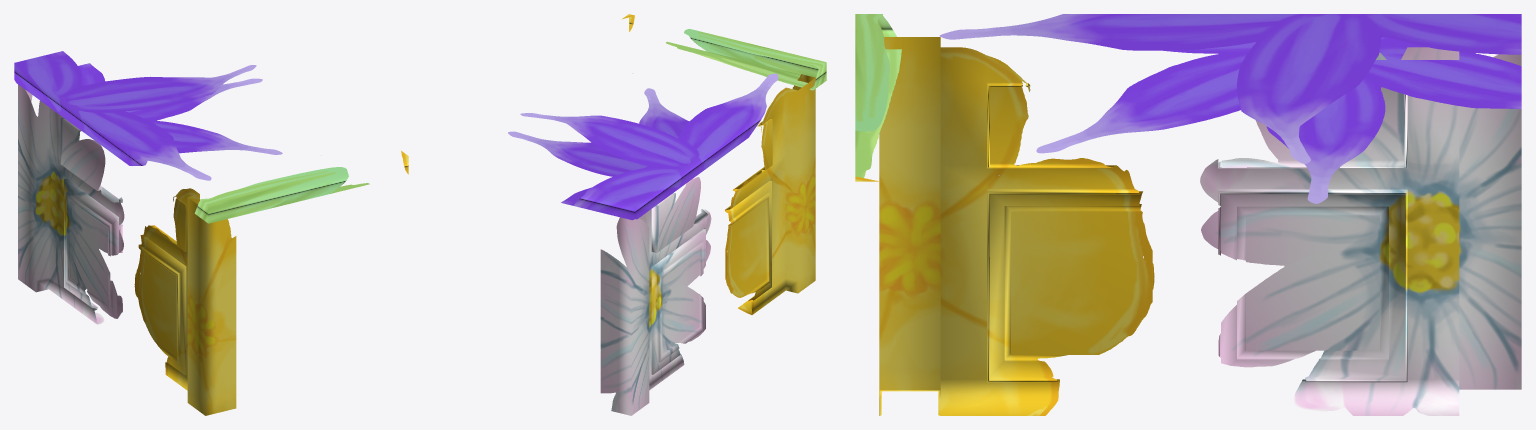
Rendered from Packingstation1.fbx.
3 renders of one model, left to right at view 1: azimuth 30°, elevation 25°; view 2: azimuth 150°, elevation 25°; view 3: azimuth 270°, elevation 25°, orthographic. The views are drawn at different scales.
Visible parts, largest first — view 1: PackstationPart1; view 2: PackstationPart1; view 3: PackstationPart1.
Boxes of the visible parts, x1,y1,x2,y2 form: PackstationPart1: [14, 51, 408, 415]; PackstationPart1: [508, 14, 826, 415]; PackstationPart1: [855, 14, 1521, 415].
Size of the model in its own units: 95.63 by 99.09 by 161.
